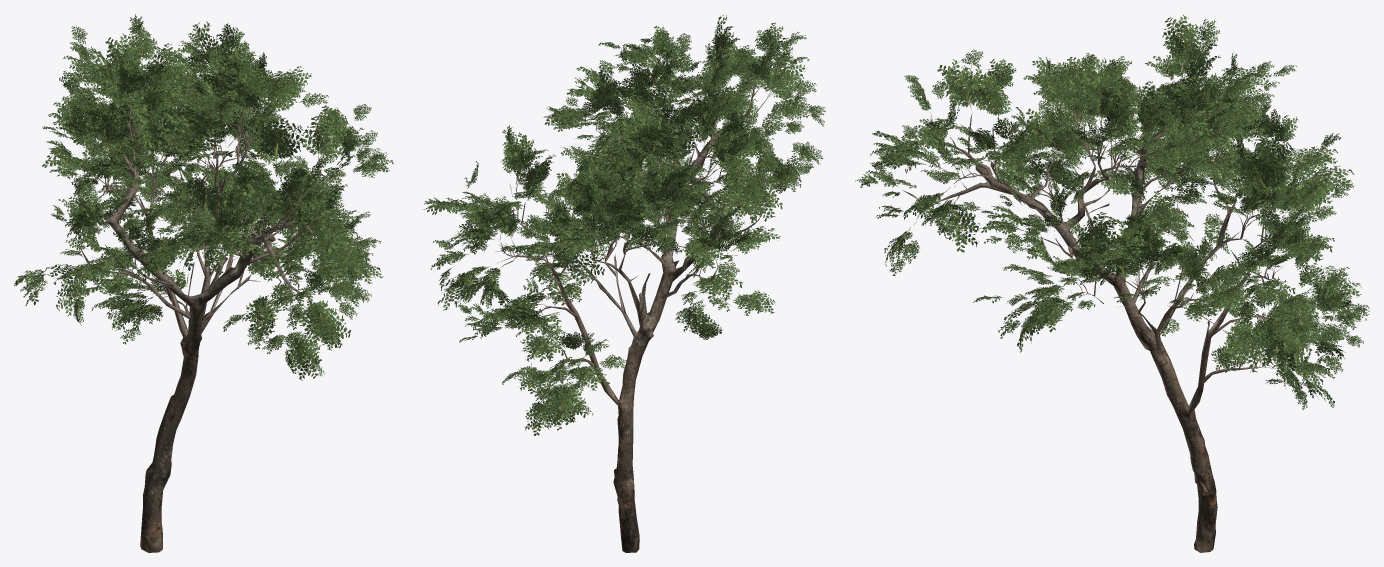
The model's file is deciduous-tree-lod0.glb.
3 views of the same model, side by side, from view 1: azimuth 30°, elevation 25°; view 2: azimuth 150°, elevation 25°; view 3: azimuth 270°, elevation 25° (orthographic). The views are drawn at different scales.
Parts seen in each view (by area): view 1: tree_small_02_LOD0; view 2: tree_small_02_LOD0; view 3: tree_small_02_LOD0.
Boxes of the visible parts, <box> form: tree_small_02_LOD0: <box>14,14,393,552</box>; tree_small_02_LOD0: <box>423,15,825,552</box>; tree_small_02_LOD0: <box>855,15,1369,552</box>.
Size of the model in its own units: 2.93 by 4.56 by 4.3.
Materials: 3 (3 with a texture image).
